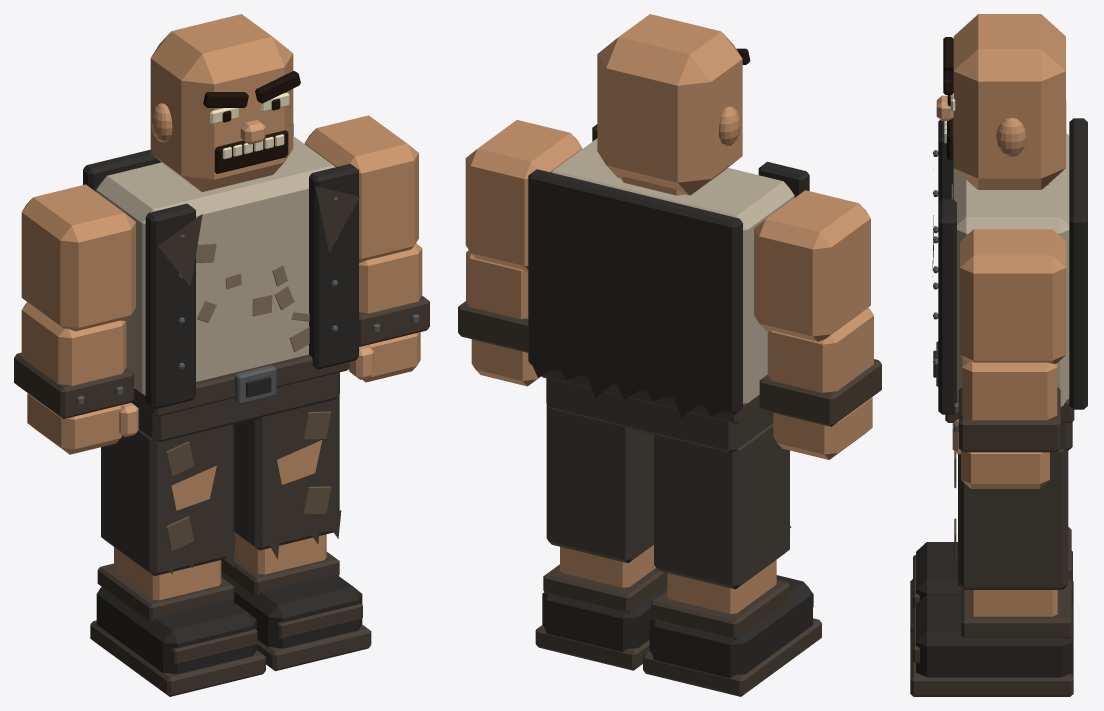
File: Chuggernaught_FirstPass.glb
The picture shows the model from 3 angles, left to right: view 1: azimuth 30°, elevation 25°; view 2: azimuth 150°, elevation 25°; view 3: azimuth 270°, elevation 25°; orthographic projection.
Visible parts, largest first — view 1: Torso_Vest, Bald_Head, UpperArm_L, TrouserLeg_L, TrouserLeg_R, UpperArm_R, Jacket_Front_L, Jacket_Front_R, Boot, Forearm_L, Boot.001, Pelvis (+28 smaller); view 2: Jacket_Back, Bald_Head, TrouserLeg_L, UpperArm_L, TrouserLeg_R, UpperArm_R, Torso_Vest, Boot, Pelvis, Forearm_L, Boot.001, Wristband (+13 smaller); view 3: Bald_Head, UpperArm_R, TrouserLeg_R, Boot.001, Torso_Vest, Forearm_R, Jacket_Back, Jacket_Front_R, Wristband.001, BootSole.001, Fist_R, BootCuff.001 (+8 smaller).
Boxes of the visible parts, x1,y1,x2,y2 form: Torso_Vest: [96, 136, 335, 395]; Bald_Head: [150, 14, 293, 191]; UpperArm_L: [21, 184, 135, 331]; TrouserLeg_L: [101, 424, 234, 576]; TrouserLeg_R: [234, 394, 339, 550]; UpperArm_R: [304, 115, 418, 263]; Jacket_Front_L: [145, 203, 195, 409]; Jacket_Front_R: [309, 163, 358, 369]; Boot: [96, 587, 256, 674]; Forearm_L: [21, 302, 126, 385]; Boot.001: [221, 571, 362, 648]; Pelvis: [131, 372, 339, 441]; Jacket_Back: [528, 169, 742, 414]; Bald_Head: [597, 14, 742, 195]; TrouserLeg_L: [654, 423, 789, 589]; UpperArm_L: [754, 190, 870, 341]; TrouserLeg_R: [546, 404, 653, 562]; UpperArm_R: [465, 120, 582, 272]; Torso_Vest: [551, 138, 794, 405]; Boot: [649, 575, 812, 678]; Pelvis: [546, 378, 773, 452]; Forearm_L: [767, 307, 873, 392]; Boot.001: [542, 585, 667, 652]; Wristband: [759, 359, 881, 426]; Bald_Head: [953, 14, 1065, 189]; UpperArm_R: [960, 229, 1066, 363]; TrouserLeg_R: [958, 449, 1068, 589]; Boot.001: [916, 594, 1072, 677]; Torso_Vest: [953, 133, 1069, 407]; Forearm_R: [962, 357, 1057, 420]; Jacket_Back: [1069, 118, 1087, 409]; Jacket_Front_R: [938, 199, 956, 414]; Wristband.001: [958, 387, 1060, 452]; BootSole.001: [910, 631, 1073, 696]; Fist_R: [961, 451, 1049, 488]; BootCuff.001: [961, 579, 1071, 638].
Bounding box in the file's own units: 5.12 × 8 × 2.11.
